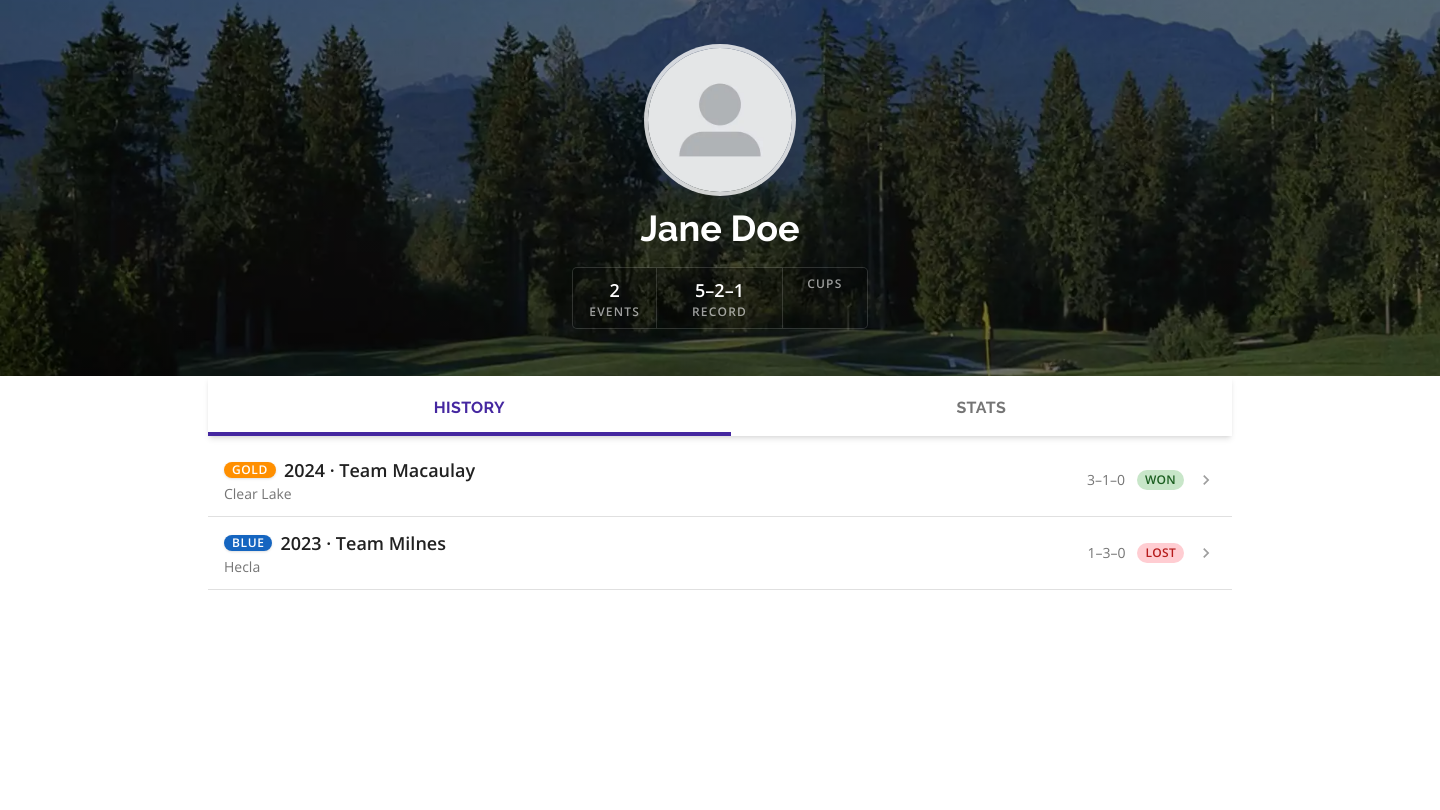
it: PlayerView › closes an open cup when its own row is tapped again
Click the button "gold 2024 · Team Macaulay Clear Lake 3–1–0 Won" at [250, 470], box [208,444,1232,516]
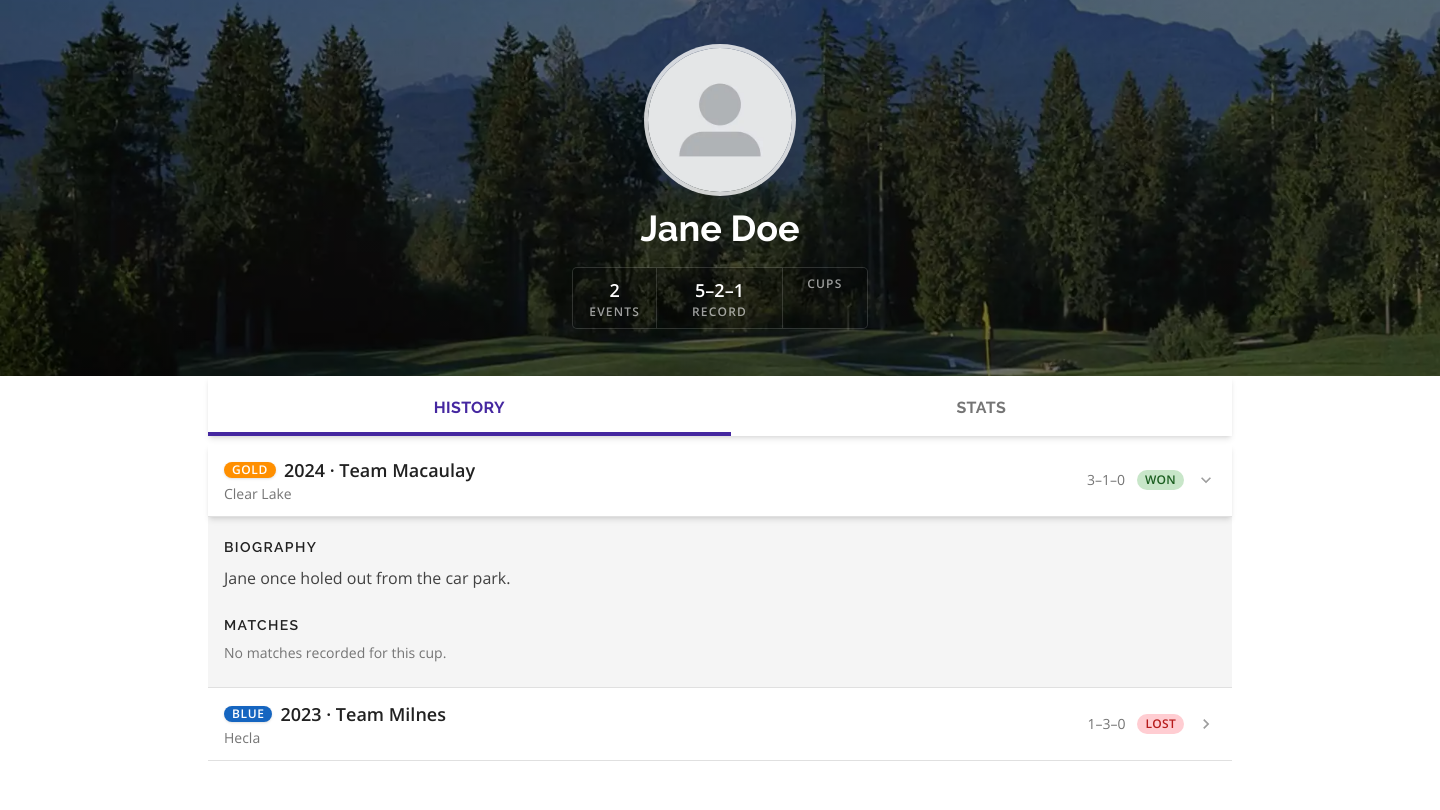
Now the button "gold 2024 · Team Macaulay Clear Lake 3–1–0 Won" is expanded
Click the button "gold 2024 · Team Macaulay Clear Lake 3–1–0 Won" at [250, 470], box [208,444,1232,517]
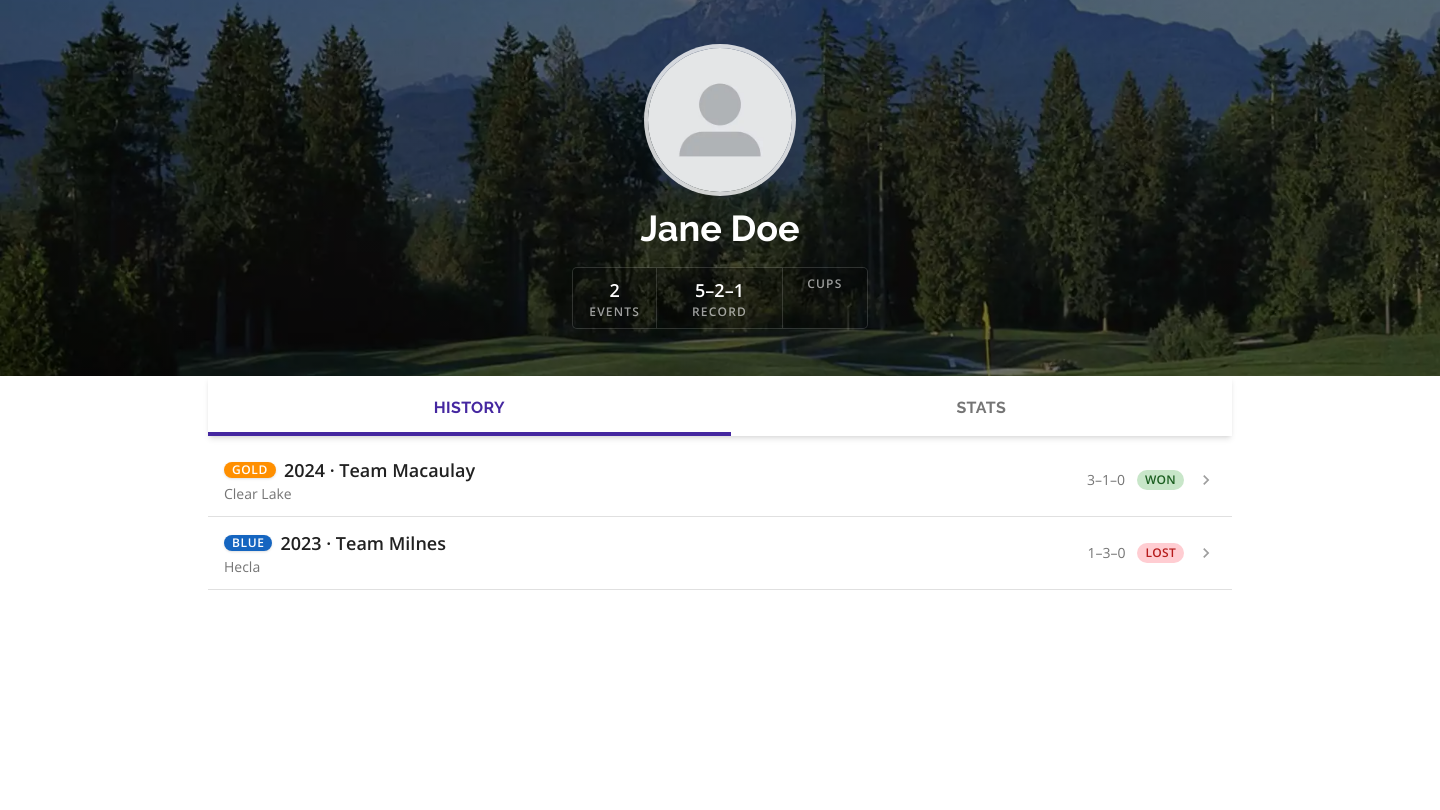
Now the button "gold 2024 · Team Macaulay Clear Lake 3–1–0 Won" is collapsed, box [208,444,1232,516]
